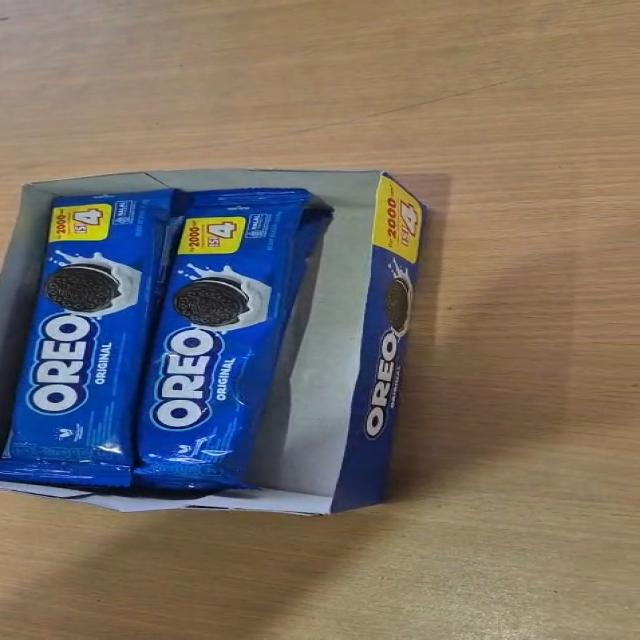Oreo: (128, 186, 318, 495), (0, 187, 186, 491)
